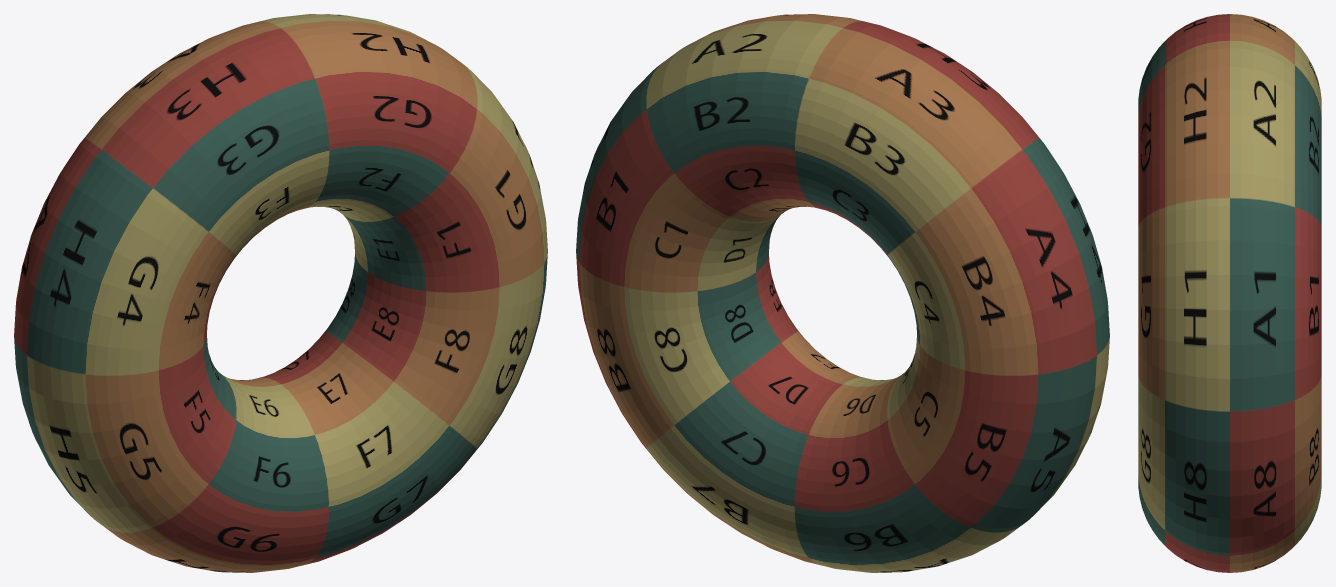
Rendered from texture_torus_R5_r17.glb.
3 renders of one model, left to right at view 1: azimuth 30°, elevation 25°; view 2: azimuth 150°, elevation 25°; view 3: azimuth 270°, elevation 25°, orthographic. The views are drawn at different scales.
Parts seen in each view (by area): view 1: world; view 2: world; view 3: world.
Part boxes in pixels (x1,y1,x2,y2): world: [14, 14, 547, 572]; world: [576, 14, 1109, 572]; world: [1138, 14, 1321, 572].
Size of the model in its own units: 19.87 by 19.83 by 6.52.
Materials: 1 (1 with a texture image).
